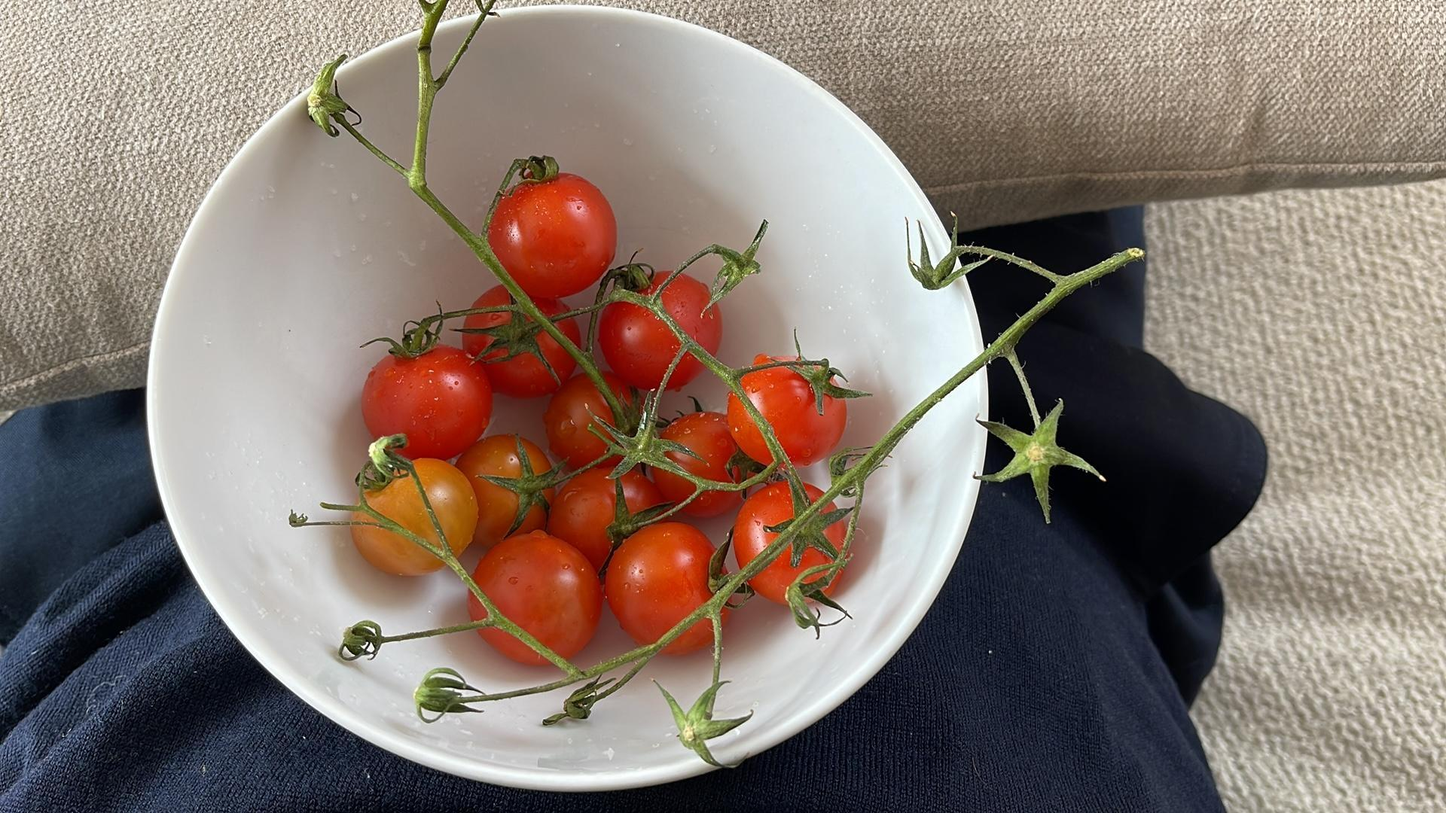tomato: (466, 526, 604, 672), (607, 515, 742, 656), (359, 330, 495, 463), (486, 166, 616, 299), (348, 441, 476, 575), (596, 266, 724, 387), (459, 282, 582, 401), (737, 473, 847, 601), (732, 347, 849, 463), (652, 397, 763, 517), (455, 430, 569, 542), (551, 468, 669, 570), (551, 374, 651, 469)
